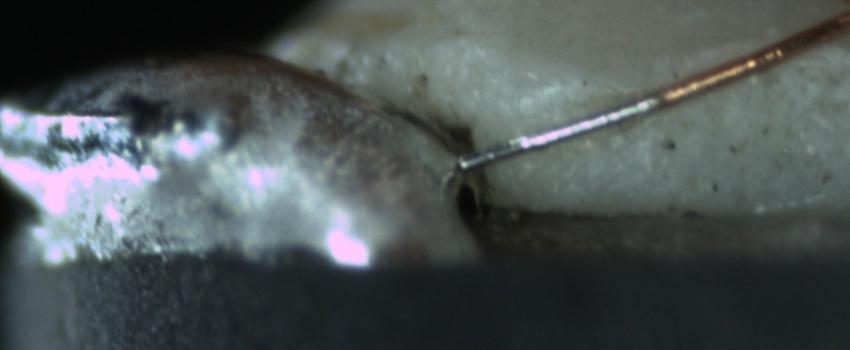TS: (461, 88, 656, 170)
